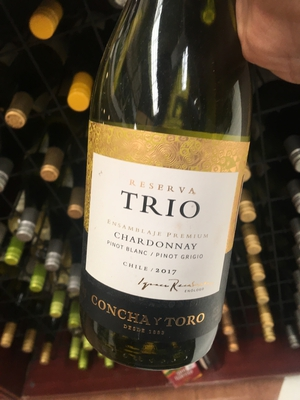trio chardonnay: (86, 20, 253, 387)
